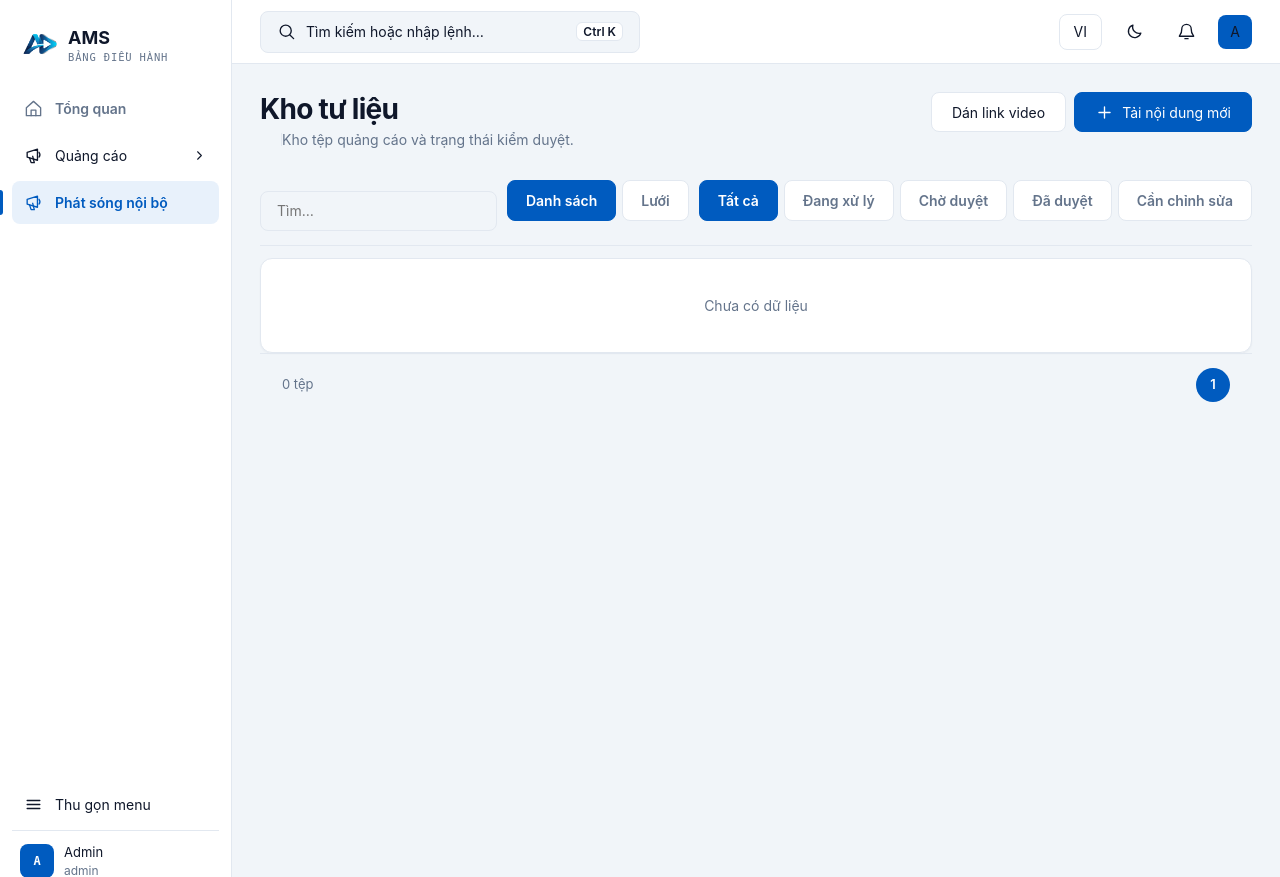
Test: Nhap tu lien ket: tien do va Thu lai › YouTube: dan lien ket YouTube -> bao ro chua ho tro va huong dan tai ve may, khong cho gui
Click the button "Tải nội dung mới" at (1163, 112), box x1=1074 y1=92 x2=1252 y2=132
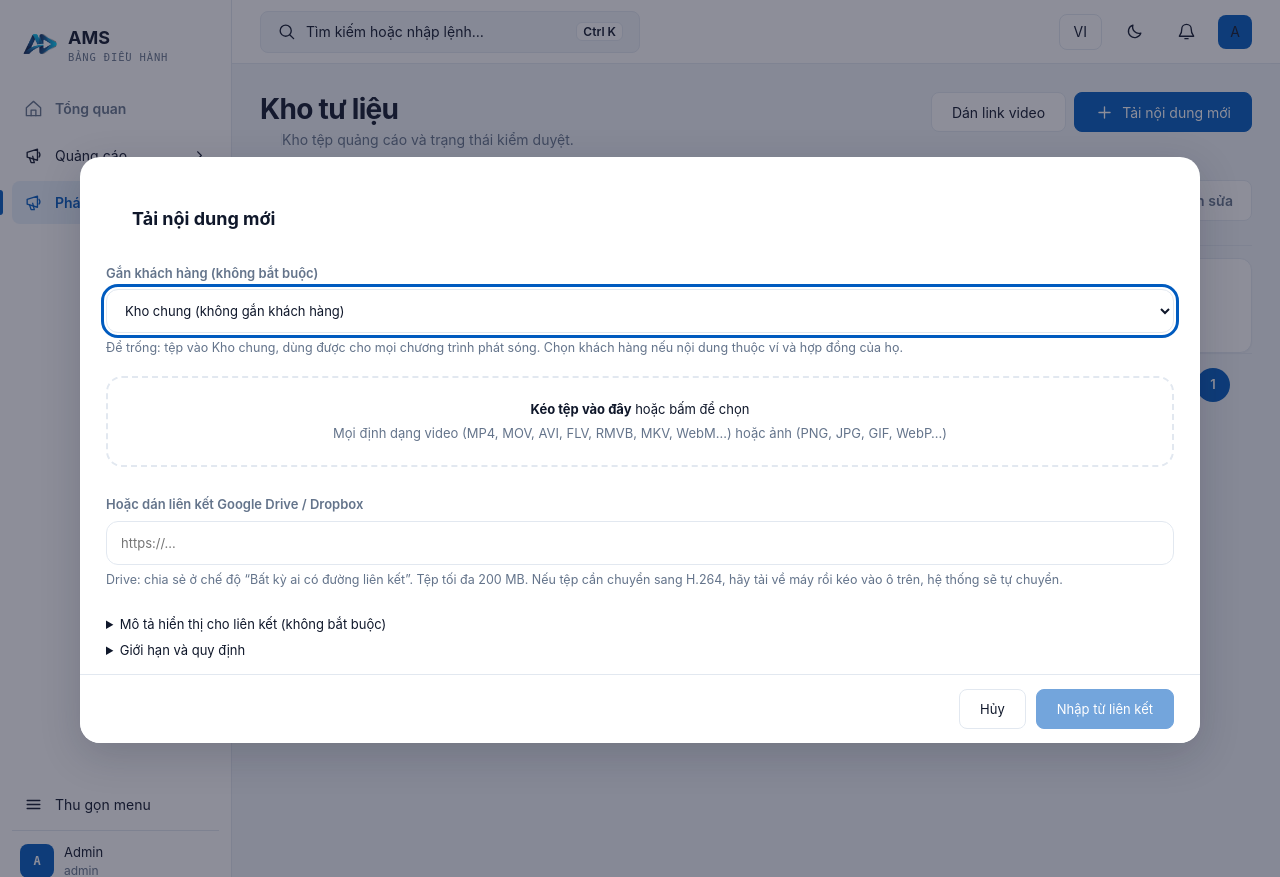
Type "https://www.youtube.com/watch?v=abc123" into the field named "Liên kết Google Drive hoặc Dropbox" at (640, 542), box x1=106 y1=520 x2=1174 y2=564
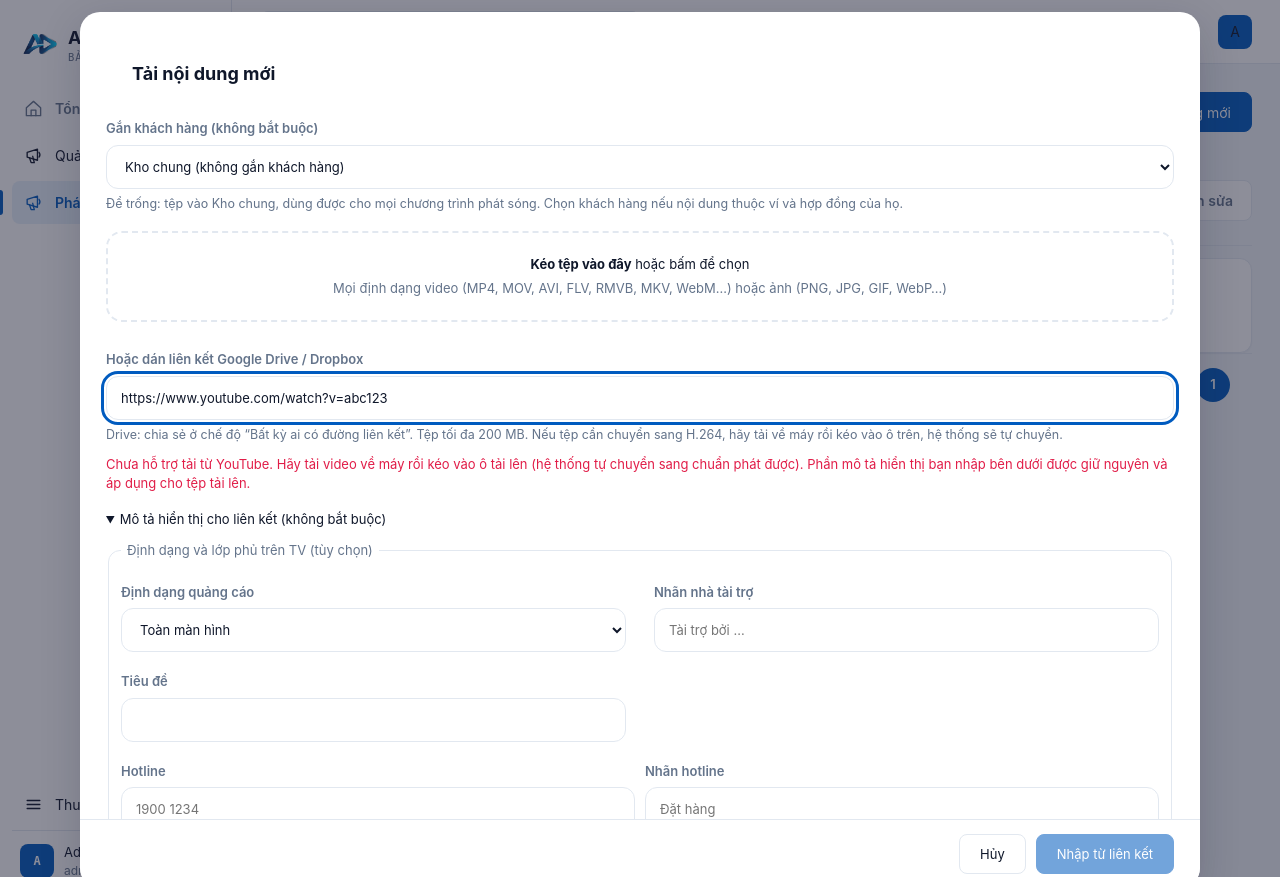
expect the button "Nhập từ liên kết" is disabled: met, box x1=1036 y1=834 x2=1174 y2=874
expect the dialog "Tải nội dung" shows "Chưa hỗ trợ tải từ YouTube": met, box x1=106 y1=456 x2=1168 y2=491
